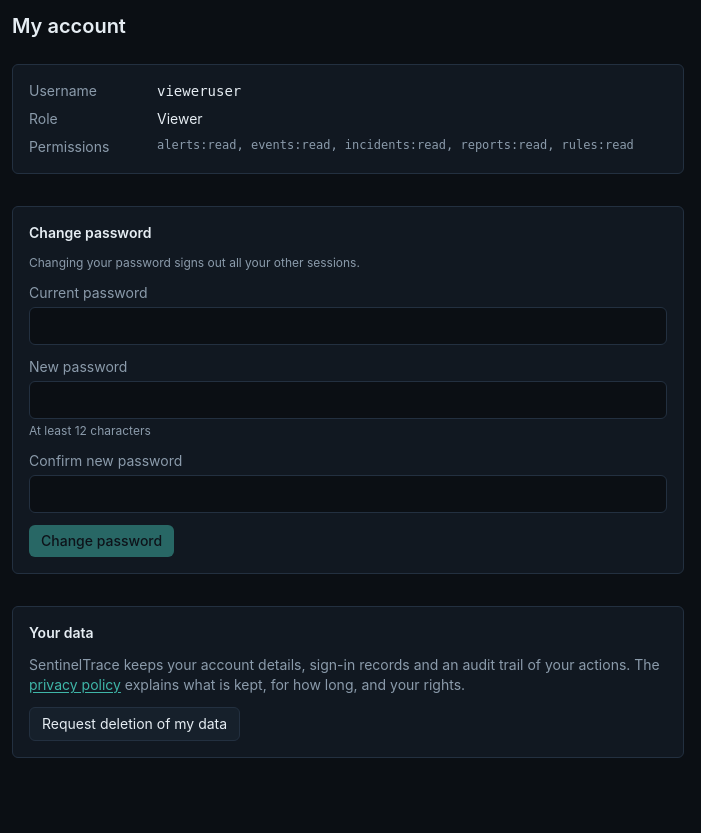
it: AccountPage › changes the password
The image size is (701, 833).
Type "old-password-123" into the password field labelled "Current password" at (348, 326), box [29, 307, 667, 345]
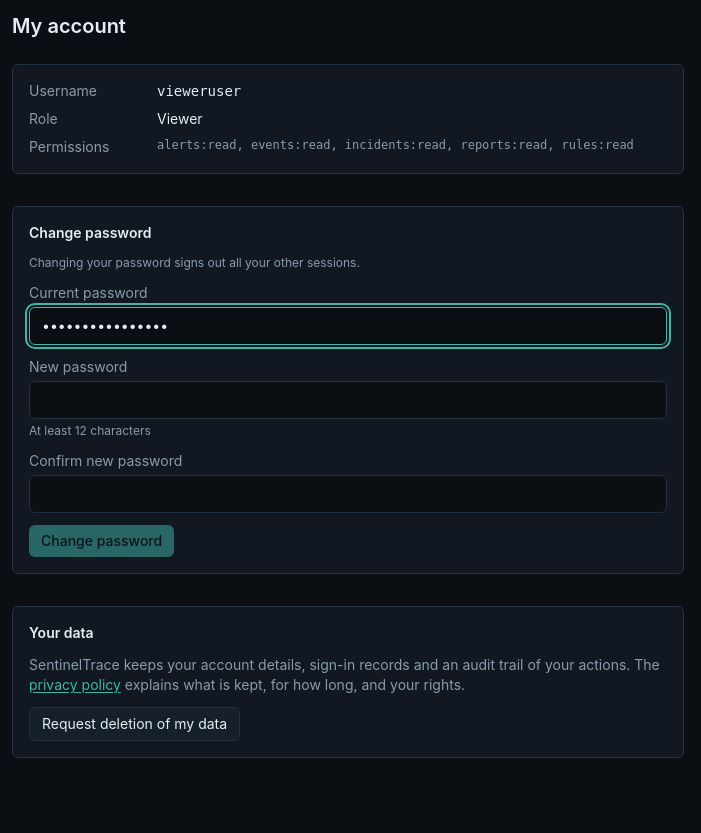
Type "new-password-456" into the password field labelled "New password At least 12 characters" at (348, 400), box [29, 381, 667, 419]
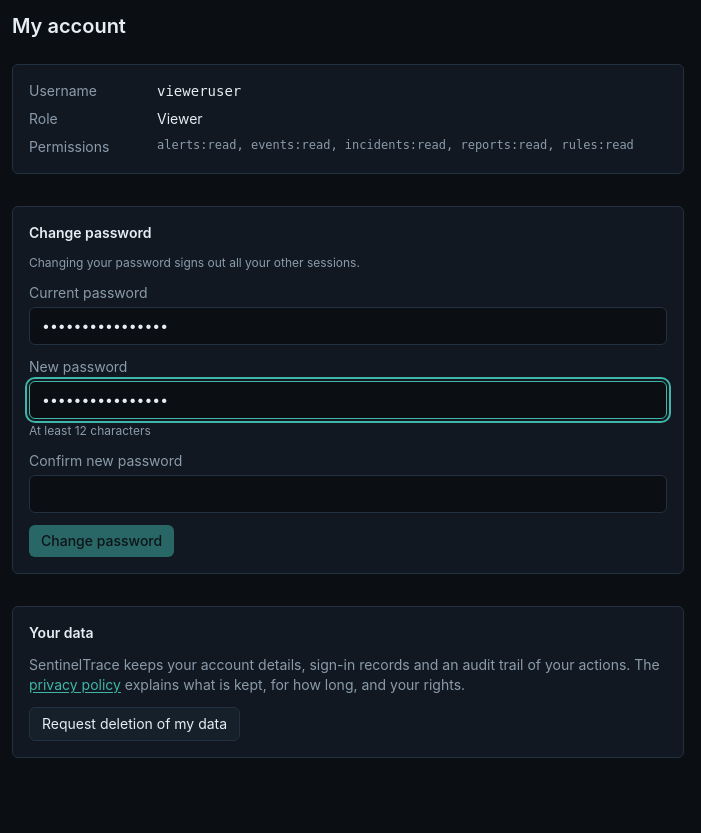
Type "new-password-456" into the password field labelled "Confirm new password" at (348, 494), box [29, 475, 667, 513]
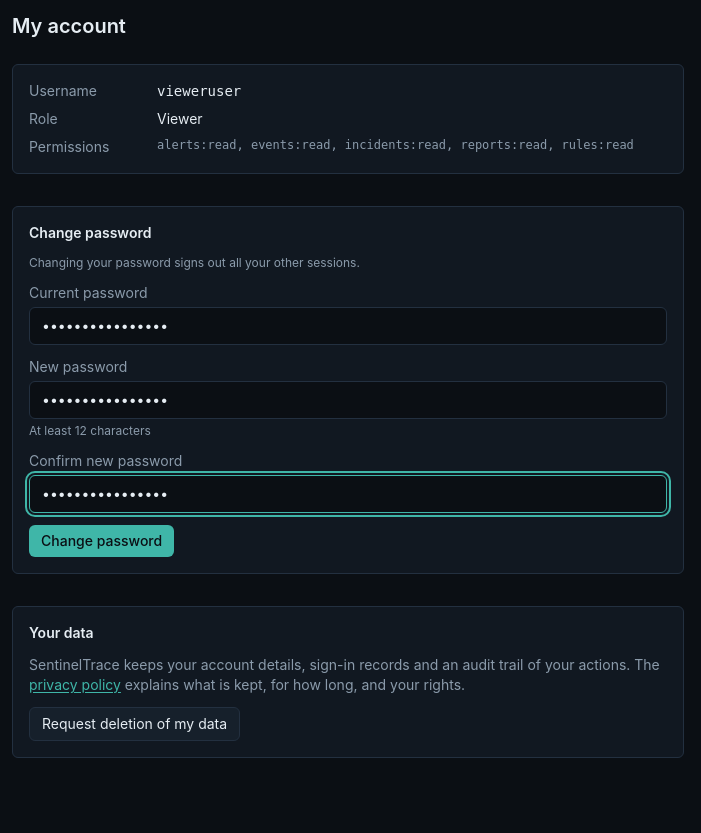
Click the button "Change password" at (102, 541), box [29, 525, 174, 557]
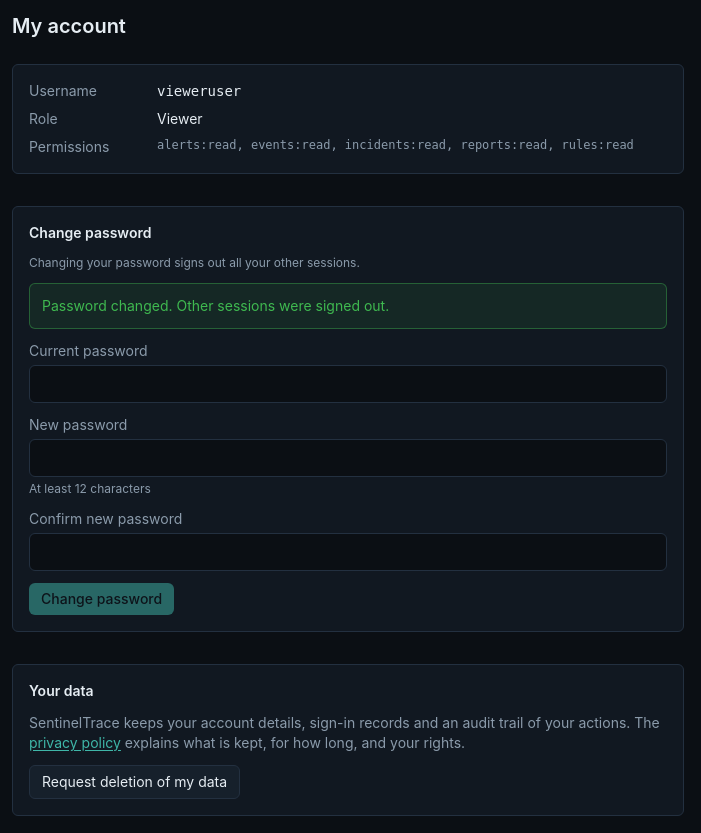
Expected: the text "Password changed. Other sessions were signed out." is shown, [29, 283, 667, 329]
